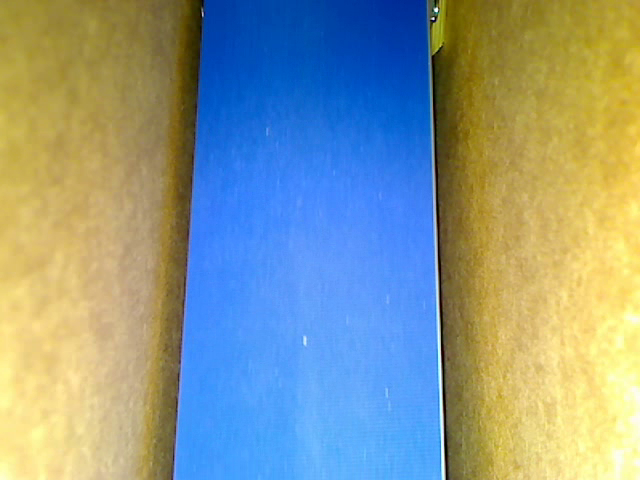penne: (429, 1, 448, 62)
